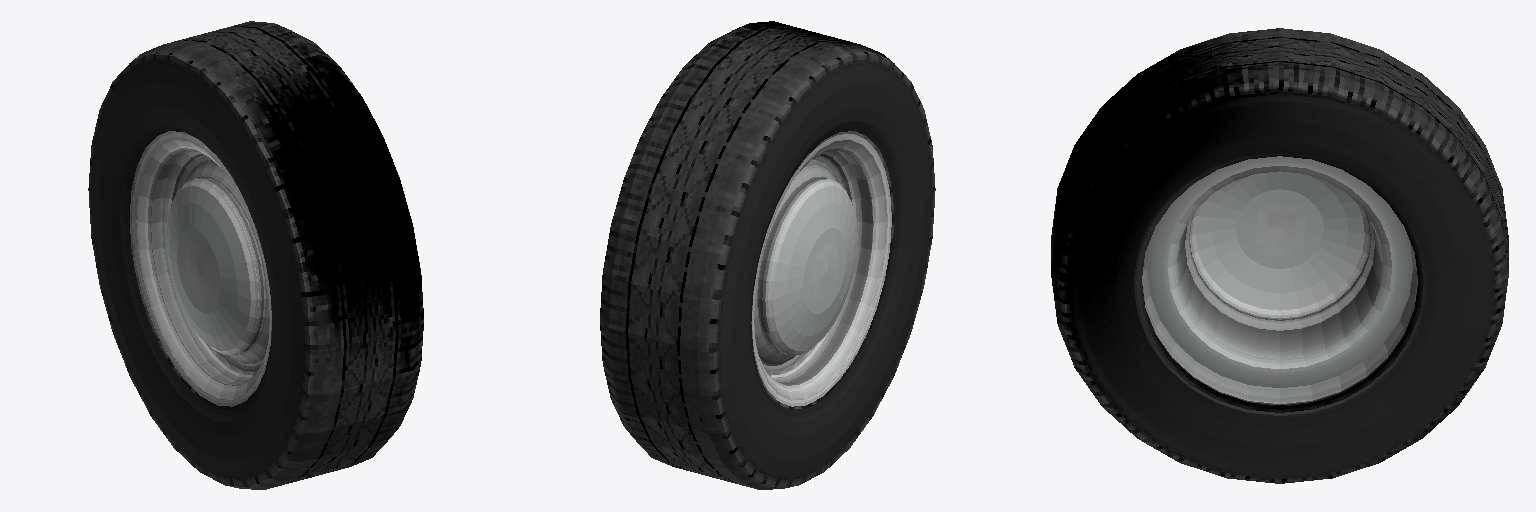
3 views of the same model, side by side, from view 1: azimuth 30°, elevation 25°; view 2: azimuth 150°, elevation 25°; view 3: azimuth 270°, elevation 25° (orthographic).
Parts seen in each view (by area): view 1: llantas.001; view 2: llantas.001; view 3: llantas.001.
Boxes of the visible parts, x1=… form: llantas.001: x1=88, y1=21, x2=423, y2=489; llantas.001: x1=600, y1=21, x2=935, y2=489; llantas.001: x1=1051, y1=28, x2=1508, y2=483.
Bounding box in the file's own units: 0.222 × 0.7296 × 0.726.
Materials: 1 (1 with a texture image).